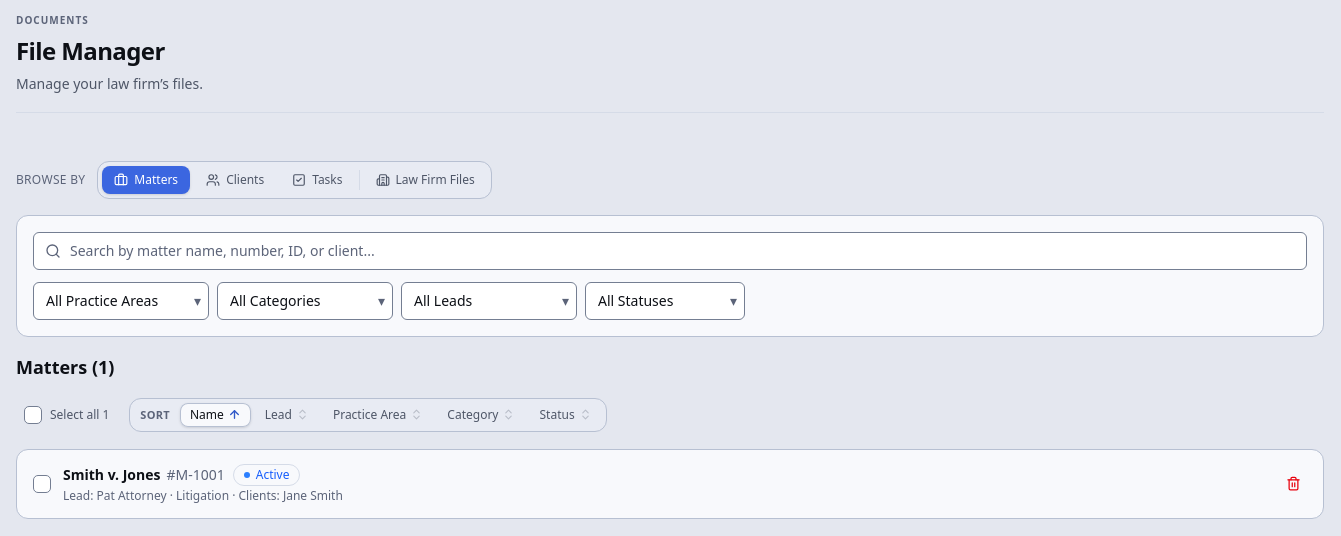
Test: entity list spacing › groups the Tasks heading and sort controls with 16px spacing
Expected: the text "Smith v. Jones" is shown, [63, 465, 160, 484]
Click the button "Tasks".
click(317, 180)  # box [280, 166, 355, 194]
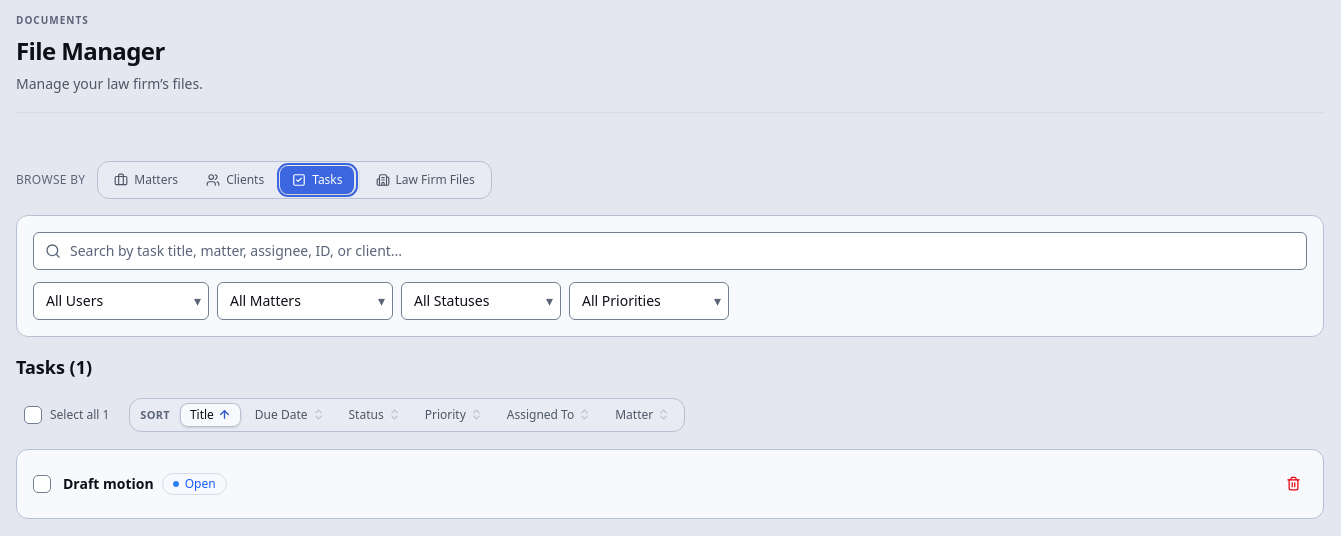
Expected: the text "Draft motion" is shown, [63, 474, 154, 494]
